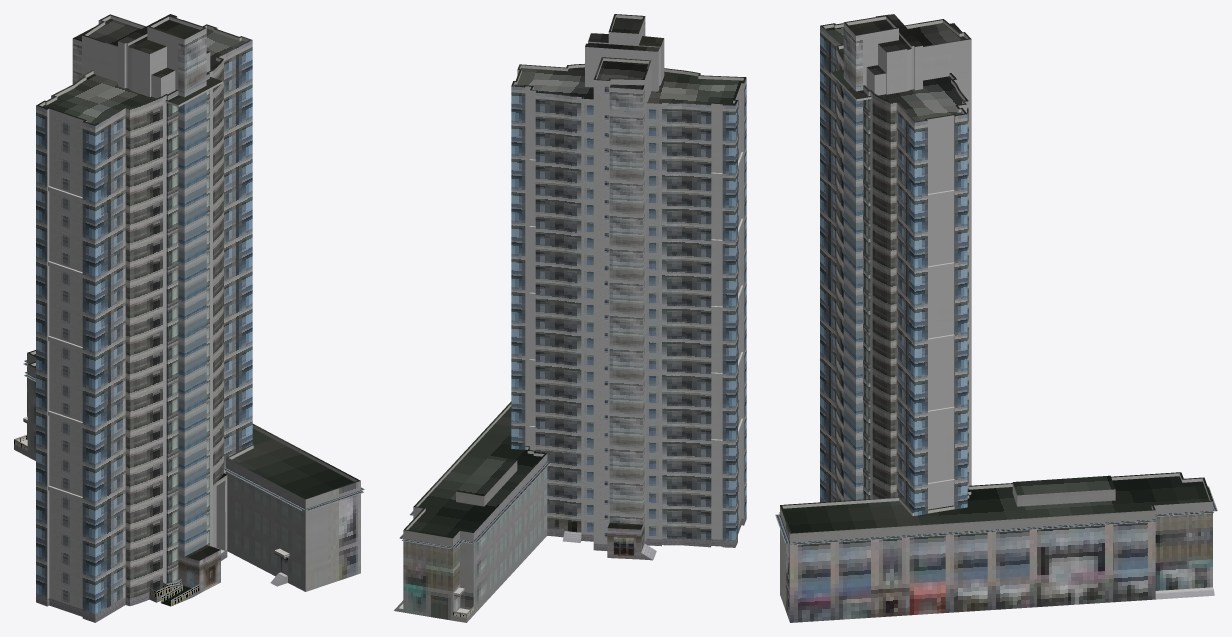
The model's file is HPDPKZ_madanglu588nong3hao.dae.
The picture shows the model from 3 angles, left to right: view 1: azimuth 30°, elevation 25°; view 2: azimuth 150°, elevation 25°; view 3: azimuth 270°, elevation 25°; orthographic projection. The views are drawn at different scales.
Visible parts, largest first — view 1: HPDPKZ_madanglu588nong3hao_louding, HPDPKZ_madanglu600hao_1F, HPDPKZ_madanglu600hao_3F, HPDPKZ_madanglu600hao_louding, HPDPKZ_madanglu600hao_2F, HPDPKZ_madanglu588nong3hao_1F_101, HPDPKZ_madanglu588nong3hao_26F_2601, HPDPKZ_madanglu588nong3hao_12F_1201, HPDPKZ_madanglu588nong3hao_10F_1001, HPDPKZ_madanglu588nong3hao_27F_2701, HPDPKZ_madanglu588nong3hao_8F_801, HPDPKZ_madanglu588nong3hao_3F_301 (+66 smaller); view 2: HPDPKZ_madanglu588nong3hao_louding, HPDPKZ_madanglu600hao_louding, HPDPKZ_madanglu600hao_1F, HPDPKZ_madanglu600hao_3F, HPDPKZ_madanglu600hao_2F, HPDPKZ_madanglu588nong3hao_26F_2601, HPDPKZ_madanglu588nong3hao_21F_2101, HPDPKZ_madanglu588nong3hao_17F_1701, HPDPKZ_madanglu588nong3hao_12F_1201, HPDPKZ_madanglu588nong3hao_1F_101, HPDPKZ_madanglu588nong3hao_6F_601, HPDPKZ_madanglu588nong3hao_27F_2701 (+71 smaller); view 3: HPDPKZ_madanglu600hao_1F, HPDPKZ_madanglu600hao_louding, HPDPKZ_madanglu600hao_3F, HPDPKZ_madanglu600hao_2F, HPDPKZ_madanglu588nong3hao_louding, HPDPKZ_madanglu588nong3hao_26F_2603, HPDPKZ_madanglu588nong3hao_19F_1903, HPDPKZ_madanglu588nong3hao_29F_2903, HPDPKZ_madanglu588nong3hao_13F_1303, HPDPKZ_madanglu588nong3hao_17F_1703, HPDPKZ_madanglu588nong3hao_8F_803, HPDPKZ_madanglu588nong3hao_10F_1003 (+14 smaller).
Part boxes in pixels (box(x1,y1,x2,y2)): HPDPKZ_madanglu588nong3hao_louding: box(36, 14, 252, 132); HPDPKZ_madanglu600hao_1F: box(14, 413, 360, 591); HPDPKZ_madanglu600hao_3F: box(23, 353, 364, 529); HPDPKZ_madanglu600hao_louding: box(27, 350, 360, 499); HPDPKZ_madanglu600hao_2F: box(27, 383, 360, 559); HPDPKZ_madanglu588nong3hao_1F_101: box(36, 578, 162, 622); HPDPKZ_madanglu588nong3hao_26F_2601: box(36, 163, 155, 208); HPDPKZ_madanglu588nong3hao_12F_1201: box(36, 389, 155, 434); HPDPKZ_madanglu588nong3hao_10F_1001: box(36, 427, 155, 471); HPDPKZ_madanglu588nong3hao_27F_2701: box(36, 144, 155, 189); HPDPKZ_madanglu588nong3hao_8F_801: box(36, 465, 155, 509); HPDPKZ_madanglu588nong3hao_3F_301: box(36, 540, 155, 585); HPDPKZ_madanglu588nong3hao_louding: box(511, 14, 746, 118); HPDPKZ_madanglu600hao_louding: box(403, 401, 546, 538); HPDPKZ_madanglu600hao_1F: box(394, 507, 547, 622); HPDPKZ_madanglu600hao_3F: box(399, 453, 550, 564); HPDPKZ_madanglu600hao_2F: box(403, 480, 547, 591); HPDPKZ_madanglu588nong3hao_26F_2601: box(646, 134, 746, 178); HPDPKZ_madanglu588nong3hao_21F_2101: box(646, 201, 746, 245); HPDPKZ_madanglu588nong3hao_17F_1701: box(646, 268, 746, 312); HPDPKZ_madanglu588nong3hao_12F_1201: box(646, 335, 746, 379); HPDPKZ_madanglu588nong3hao_1F_101: box(646, 503, 746, 547); HPDPKZ_madanglu588nong3hao_6F_601: box(646, 436, 746, 480); HPDPKZ_madanglu588nong3hao_27F_2701: box(646, 117, 746, 161); HPDPKZ_madanglu600hao_1F: box(780, 559, 1214, 622); HPDPKZ_madanglu600hao_louding: box(780, 472, 1212, 533); HPDPKZ_madanglu600hao_3F: box(775, 486, 1217, 562); HPDPKZ_madanglu600hao_2F: box(780, 530, 1212, 591); HPDPKZ_madanglu588nong3hao_louding: box(820, 14, 971, 129); HPDPKZ_madanglu588nong3hao_26F_2603: box(872, 155, 968, 201); HPDPKZ_madanglu588nong3hao_19F_1903: box(872, 264, 968, 310); HPDPKZ_madanglu588nong3hao_29F_2903: box(872, 101, 968, 147); HPDPKZ_madanglu588nong3hao_13F_1303: box(872, 355, 968, 401); HPDPKZ_madanglu588nong3hao_17F_1703: box(872, 301, 968, 347); HPDPKZ_madanglu588nong3hao_8F_803: box(872, 446, 968, 492); HPDPKZ_madanglu588nong3hao_10F_1003: box(872, 410, 968, 456).
Bounding box in the file's own units: 46.12 × 87.3 × 65.97.
Materials: 46 (46 with a texture image).
